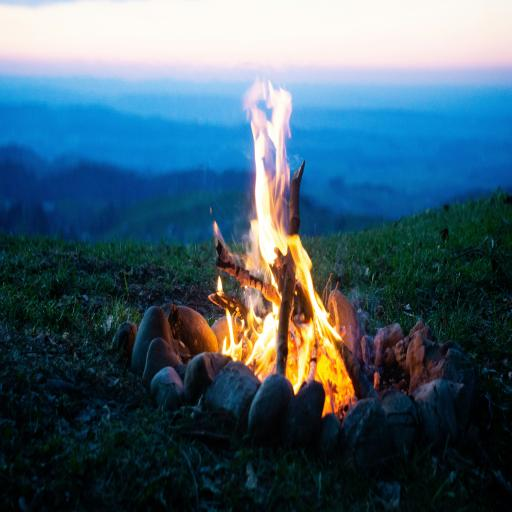campfire: (112, 79, 512, 464)
